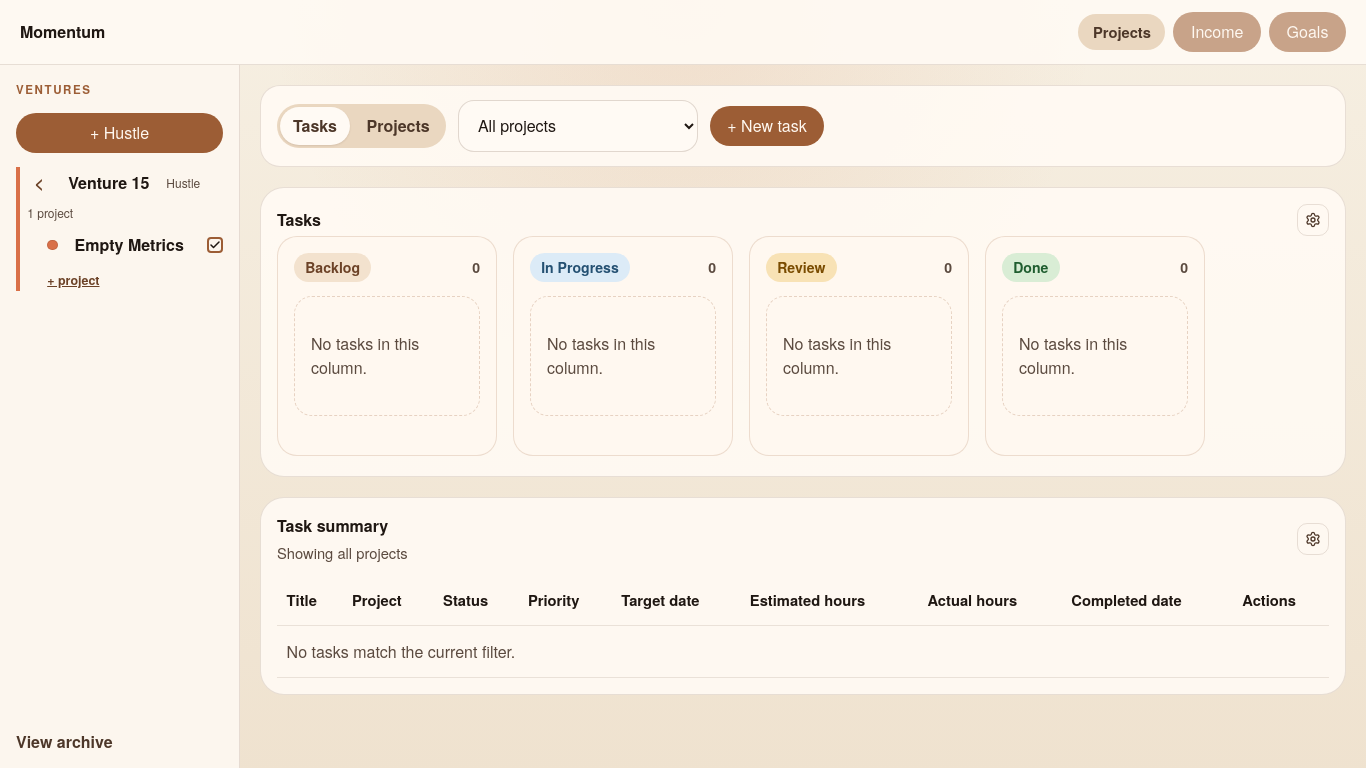
Test: Ticket 1.6-15 — Project Kanban card task count copy › prefixes the open-task metric with the literal “Tasks ” even when the count is zero
Click the tab "Projects".
click(398, 126)  # box [354,107,442,145]
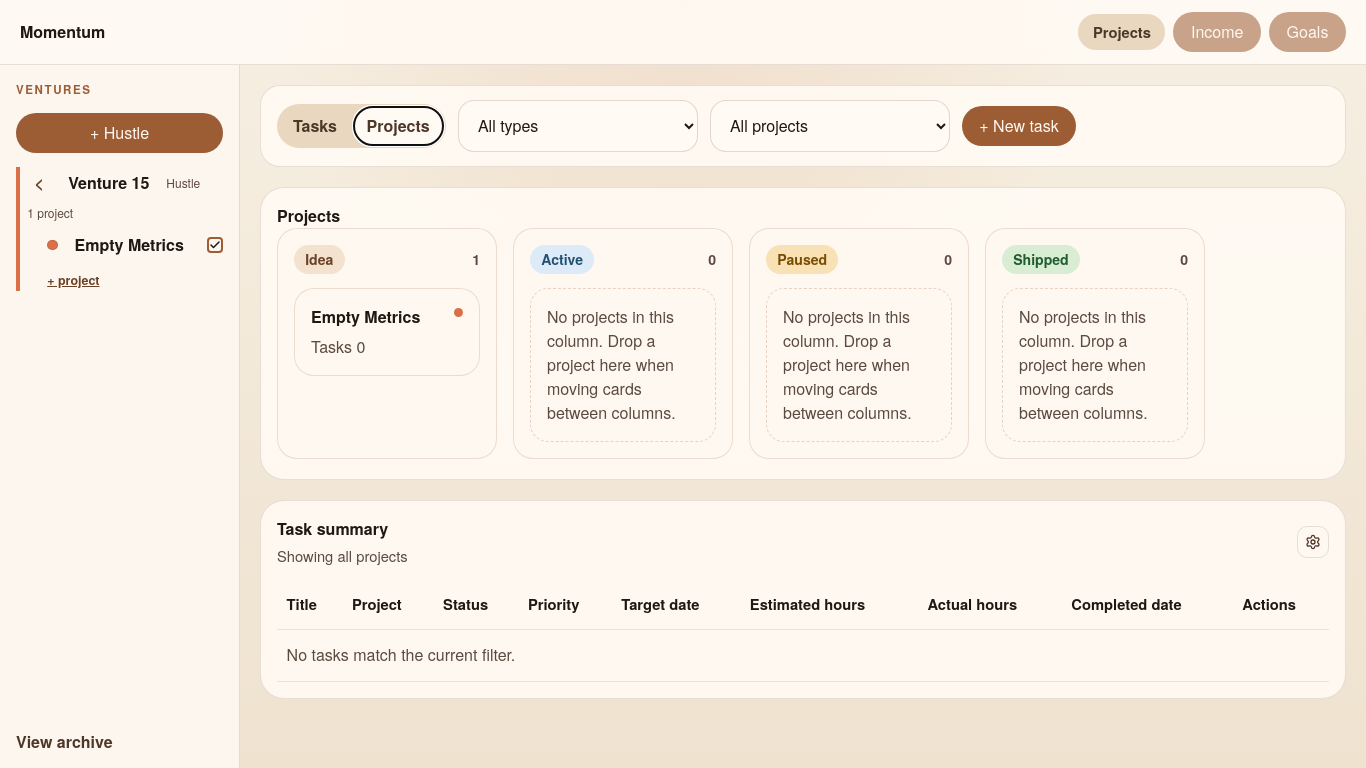
Expected: the button with test id "kanban-project-title" is shown, [311,305,420,329]
Expected: the list item with test id "kanban-project-title" reads "Empty Metrics Tasks 0", [311,335,365,358]
